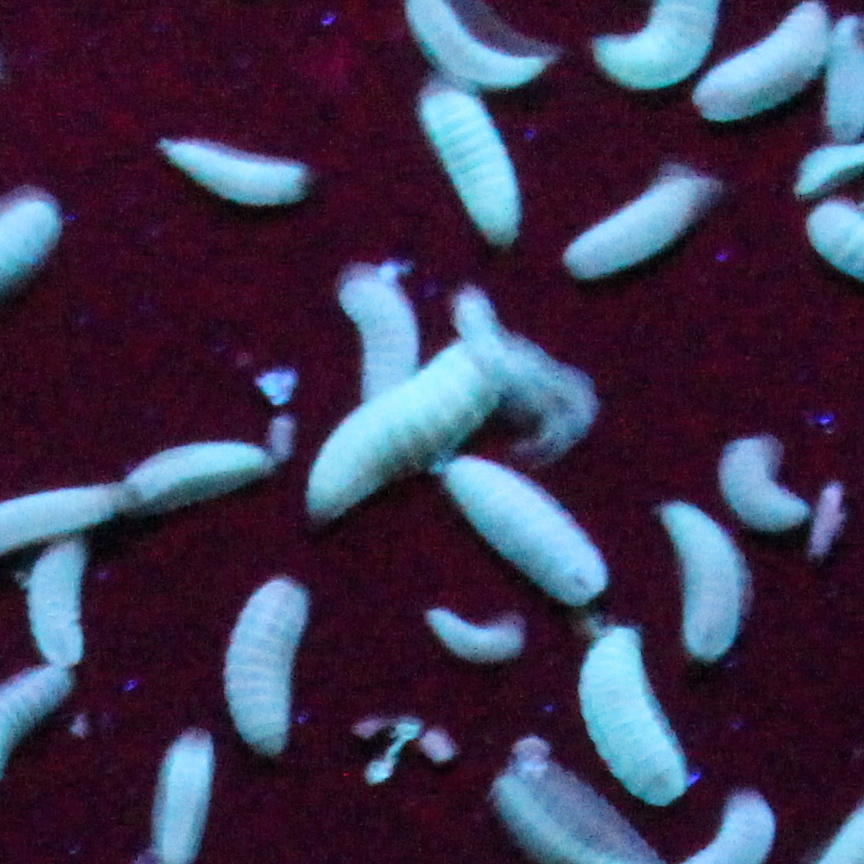larve: (324, 343, 500, 519), (447, 459, 605, 604), (578, 631, 681, 811), (417, 83, 521, 244), (698, 3, 830, 119), (567, 170, 703, 277), (228, 576, 305, 760), (659, 504, 739, 657), (402, 3, 544, 81), (164, 136, 306, 210), (337, 269, 415, 392), (122, 452, 271, 505), (723, 443, 804, 527), (35, 548, 86, 661), (424, 607, 523, 661)
